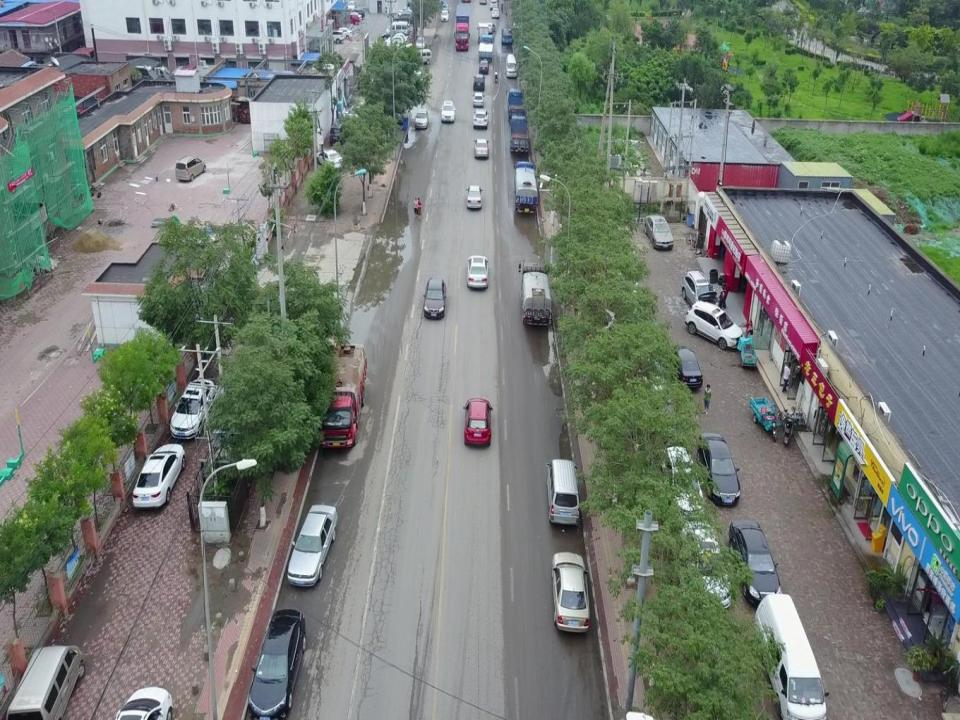car: (248, 607, 306, 719), (728, 520, 782, 606), (678, 524, 730, 609), (287, 505, 338, 588), (658, 444, 704, 515), (552, 552, 590, 636), (133, 444, 183, 506), (697, 431, 739, 504), (170, 380, 218, 440), (684, 298, 740, 348), (635, 346, 669, 395), (682, 269, 714, 312), (464, 399, 492, 445), (676, 344, 702, 390), (644, 215, 674, 251), (423, 280, 446, 318), (467, 256, 489, 289), (467, 185, 482, 211), (473, 138, 489, 160), (441, 101, 455, 122), (475, 109, 489, 129), (394, 12, 417, 24), (415, 110, 428, 130), (326, 29, 344, 43), (473, 72, 485, 92), (332, 27, 352, 38), (342, 13, 359, 25), (398, 8, 417, 18), (397, 6, 415, 16), (349, 7, 365, 18), (344, 12, 362, 21), (386, 34, 408, 41), (415, 36, 426, 49), (384, 38, 404, 45), (473, 93, 483, 106), (486, 22, 496, 34), (480, 61, 488, 74), (440, 11, 449, 22), (491, 8, 500, 18), (348, 1, 356, 10), (489, 0, 498, 8), (442, 3, 449, 12)
truck: (318, 345, 366, 449), (520, 262, 550, 328), (513, 161, 539, 215), (509, 116, 529, 156), (506, 86, 526, 118), (454, 22, 470, 50), (478, 35, 493, 61), (477, 22, 489, 42), (501, 27, 513, 45)
van: (753, 593, 830, 720), (5, 645, 84, 720), (546, 459, 581, 527), (175, 154, 204, 182), (386, 22, 410, 36), (411, 49, 432, 63), (506, 54, 516, 79)
